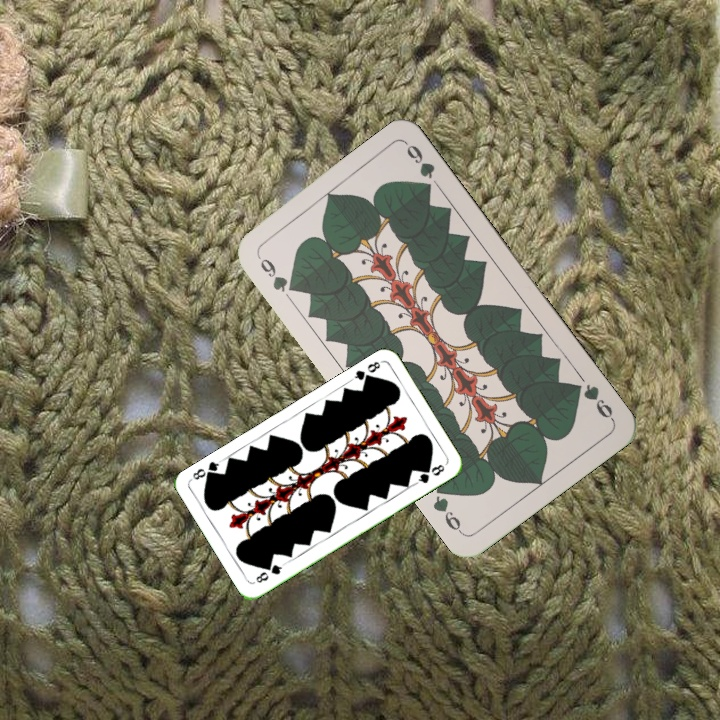G8: (347, 357, 384, 386), (252, 559, 287, 586)
G9: (568, 379, 617, 424), (253, 251, 300, 296)
